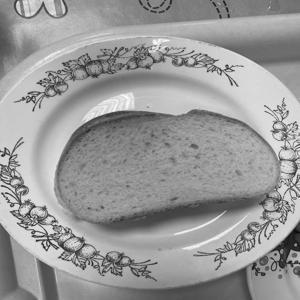bread: (40, 99, 291, 243)
